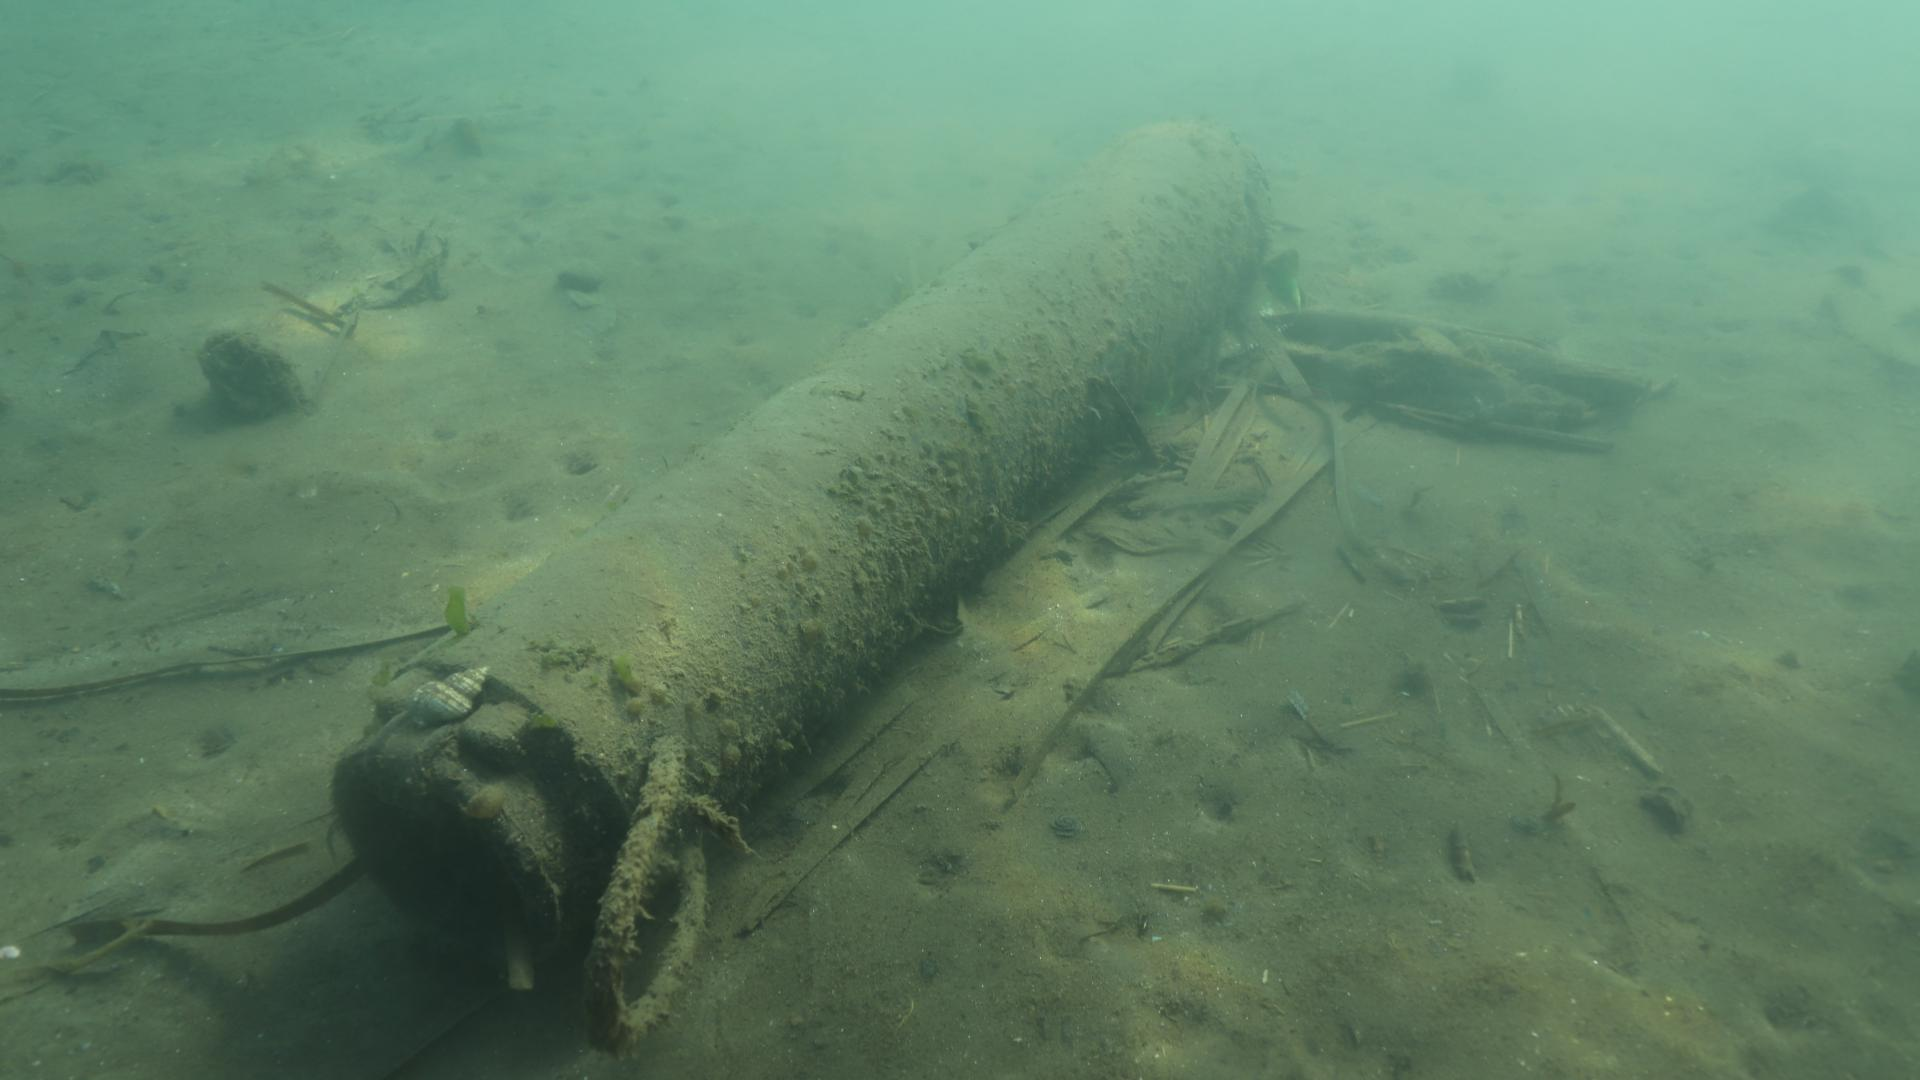eel fish trap: (334, 117, 1269, 948)
rope: (582, 731, 712, 1058)
